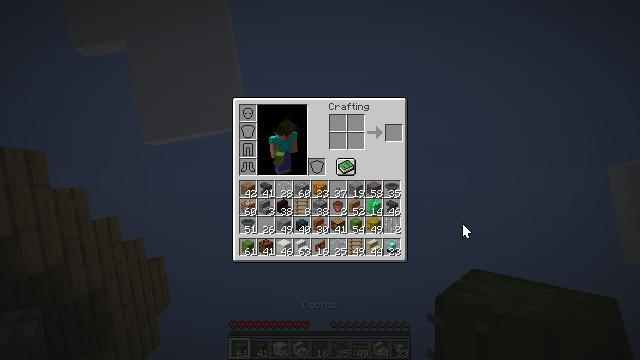cursor: (462, 223, 472, 239)
